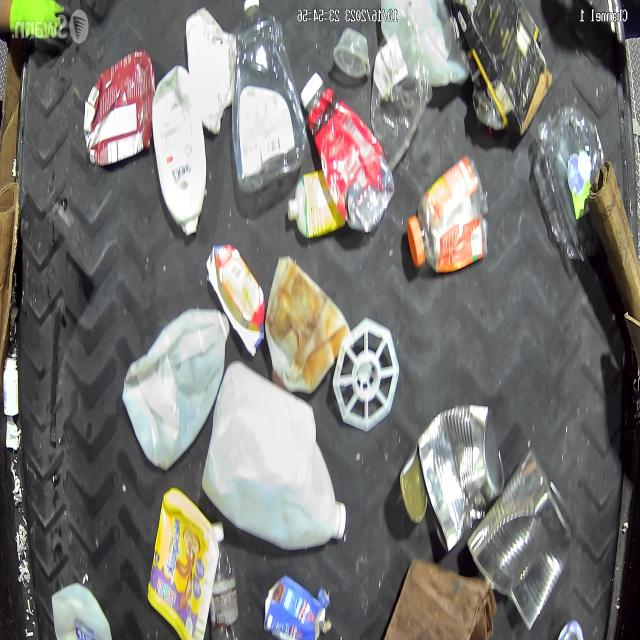can: (467, 446, 573, 630), (399, 404, 505, 554)
milk_jug: (201, 360, 344, 550), (124, 306, 227, 468), (50, 581, 115, 640)
non_white_jug: (230, 0, 304, 192), (146, 487, 219, 640), (151, 65, 207, 236), (83, 50, 154, 169), (262, 574, 328, 638)
plastic_bottle: (210, 520, 242, 640)
